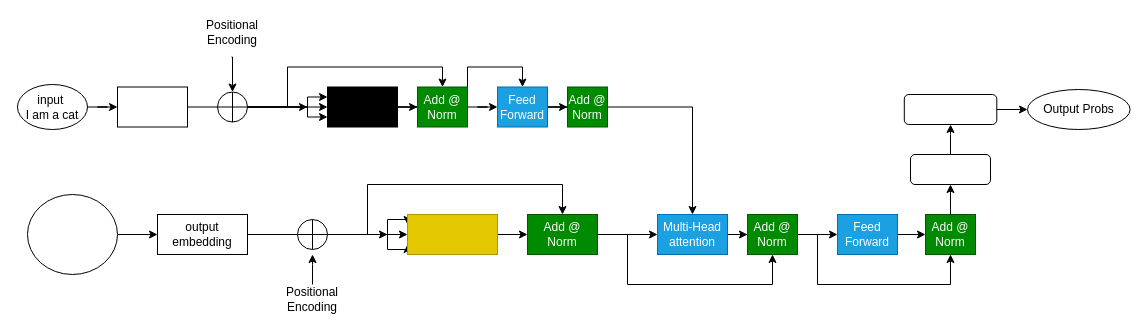
Image size: 1148x332. Some labels were removed from this diagram. The shapes that lost their labels are listed below. From the top down, each one's centre as x and y in pixels, then its label:
pixel 152 106: input Embedding
pixel 950 109: Softmax
pixel 950 169: Liner
pixel 72 234: outputs shifted right
pixel 452 234: Masked Multi-Head attention
